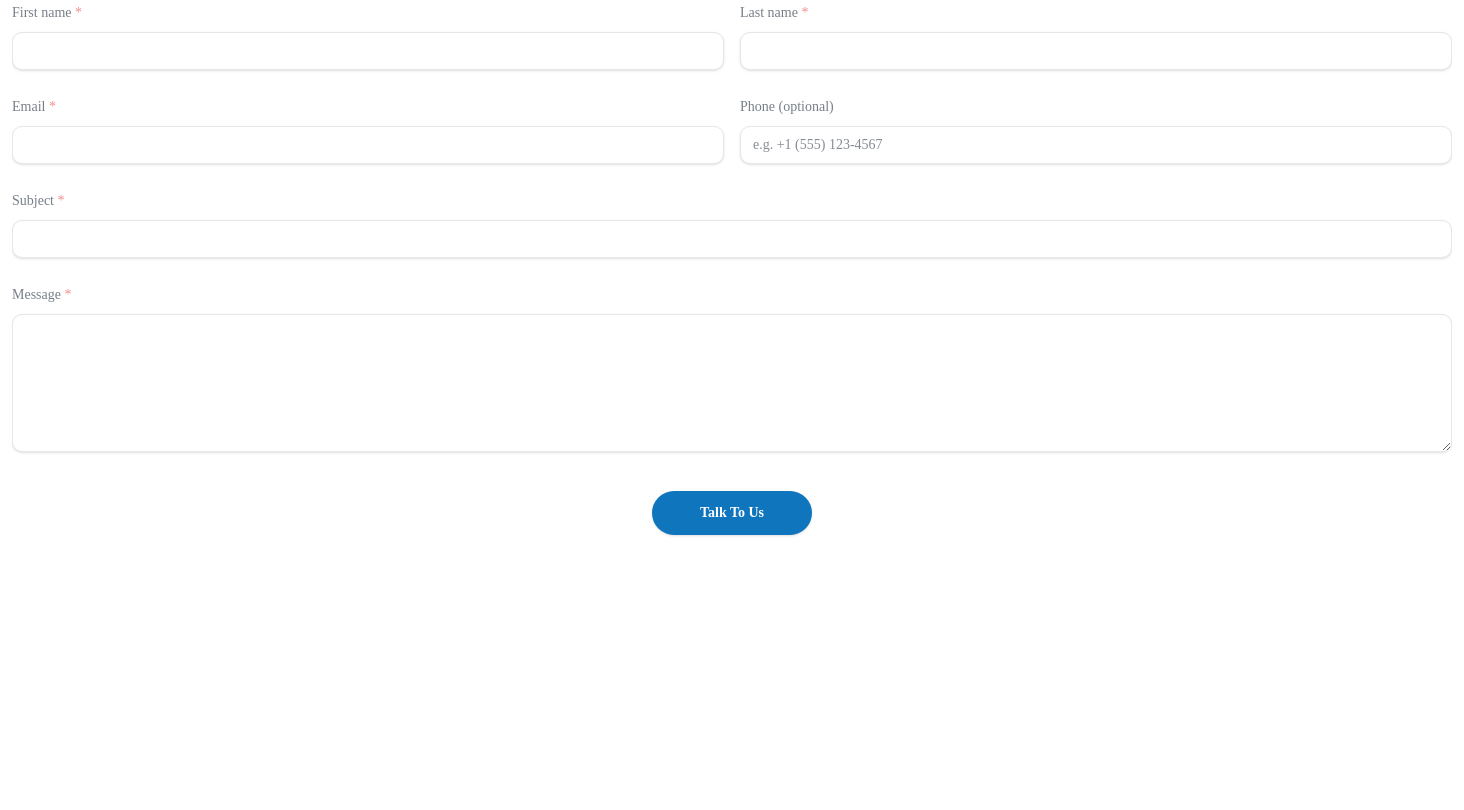
Test: ContactForm › validates email format on client
In the field labelled "First name *": (368, 51) [12,32,724,70], type "John"
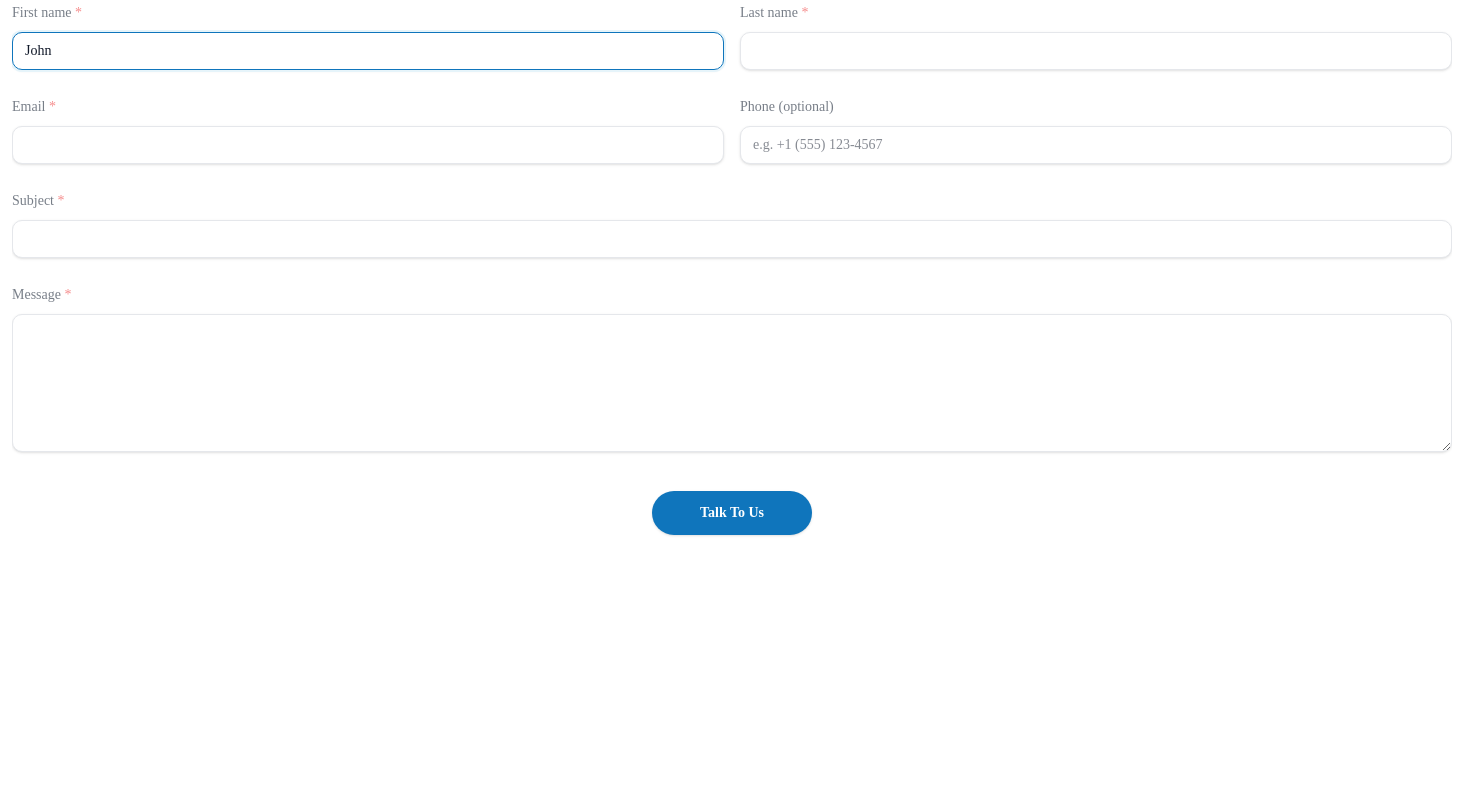
In the field labelled "Last name *": (1096, 51) [740,32,1452,70], type "Doe"
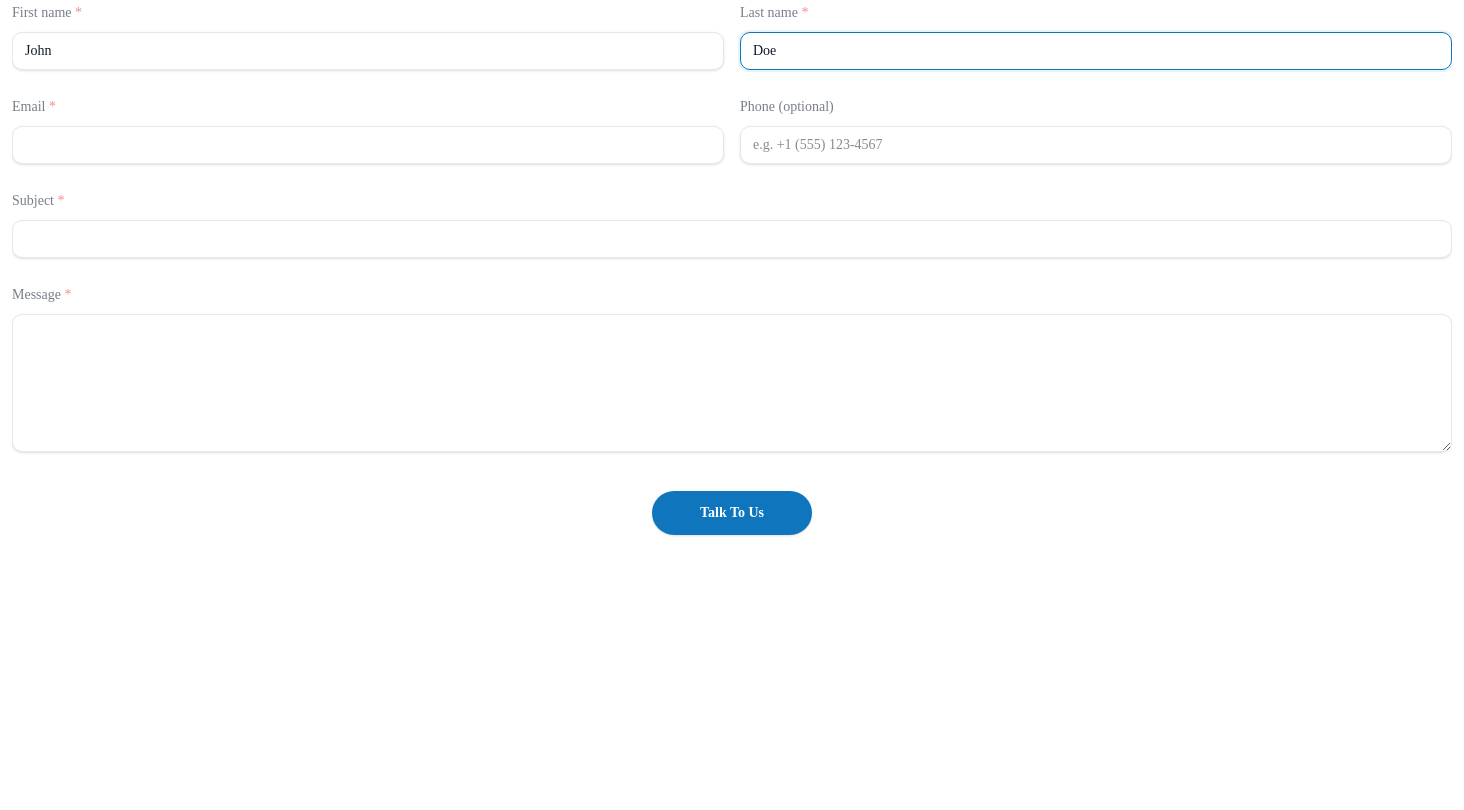
In the field labelled "Email *": (368, 145) [12,126,724,164], type "invalid-email"
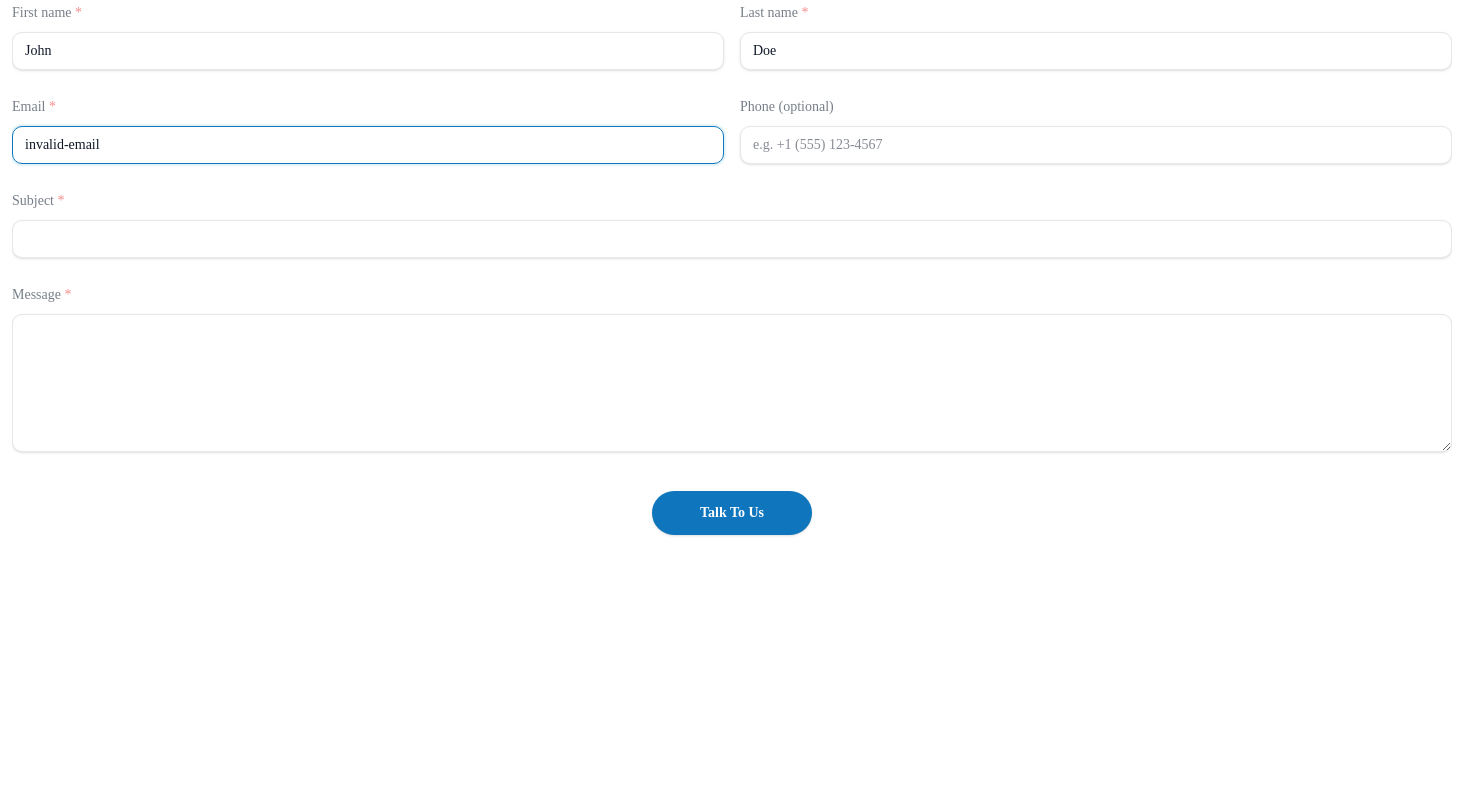
In the field labelled "Subject *": (732, 239) [12,220,1452,258], type "Test"
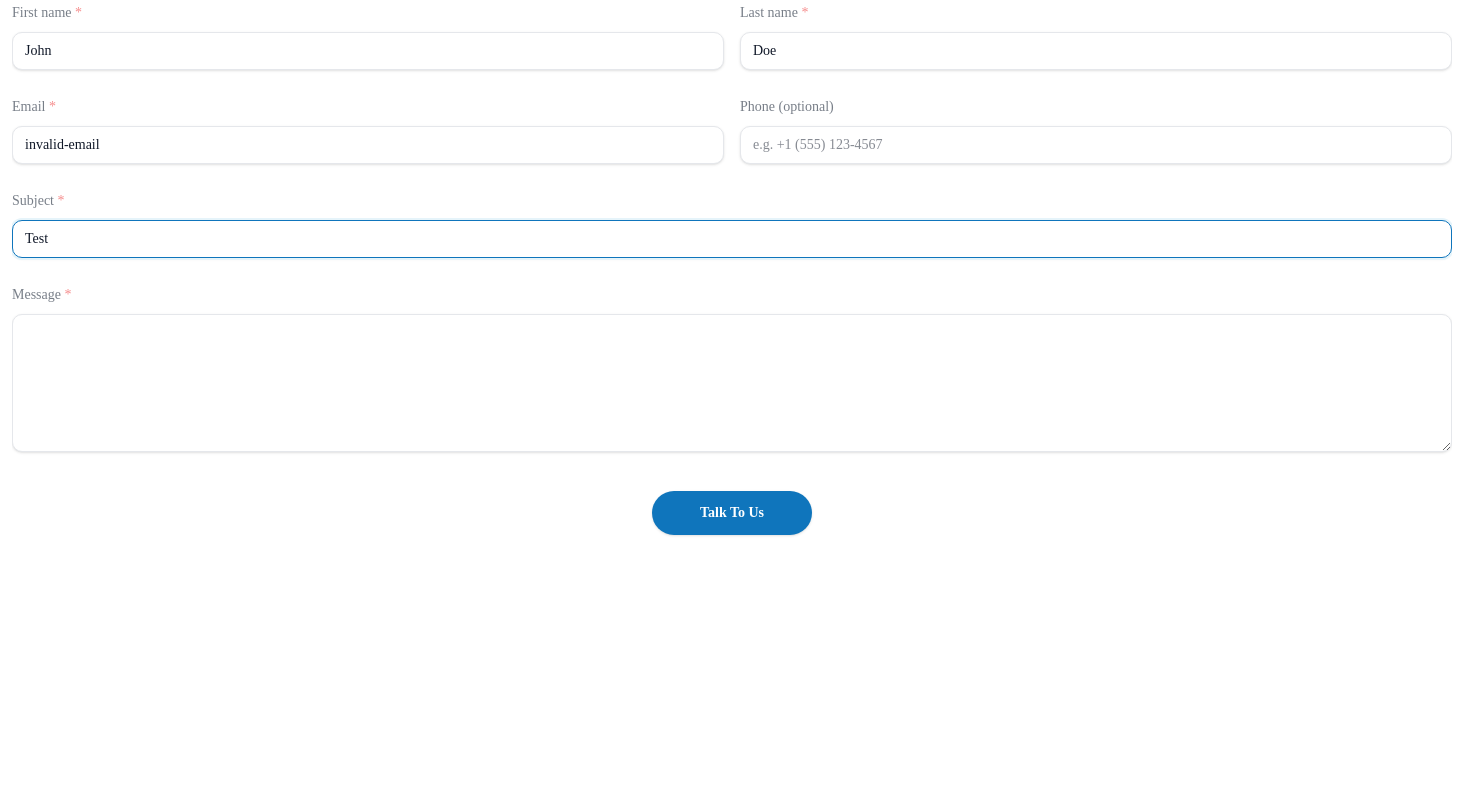
In the text box labelled "Message *": (732, 383) [12,314,1452,452], type "Test message"
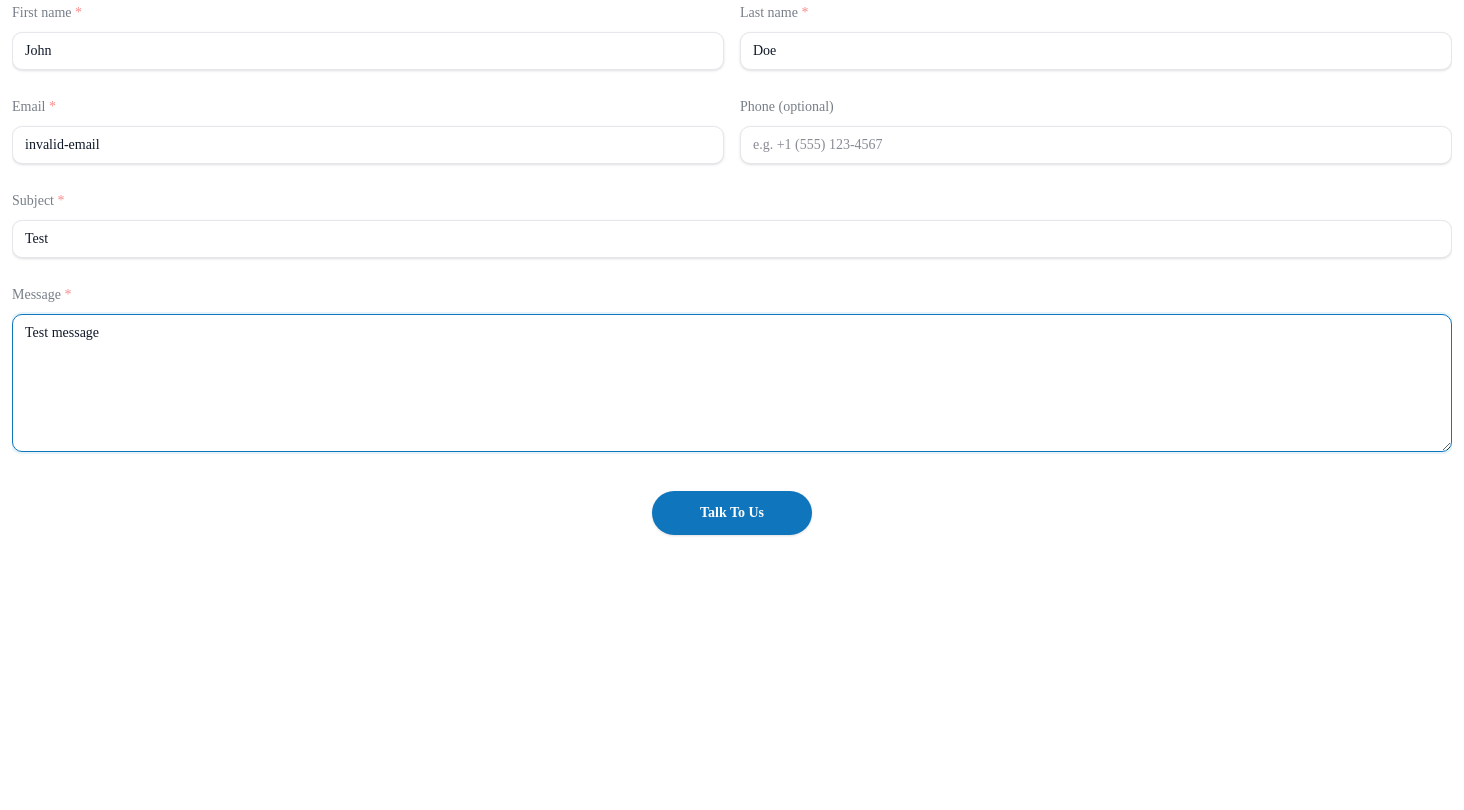
Click the button "Talk To Us": (732, 513) [652,491,812,535]
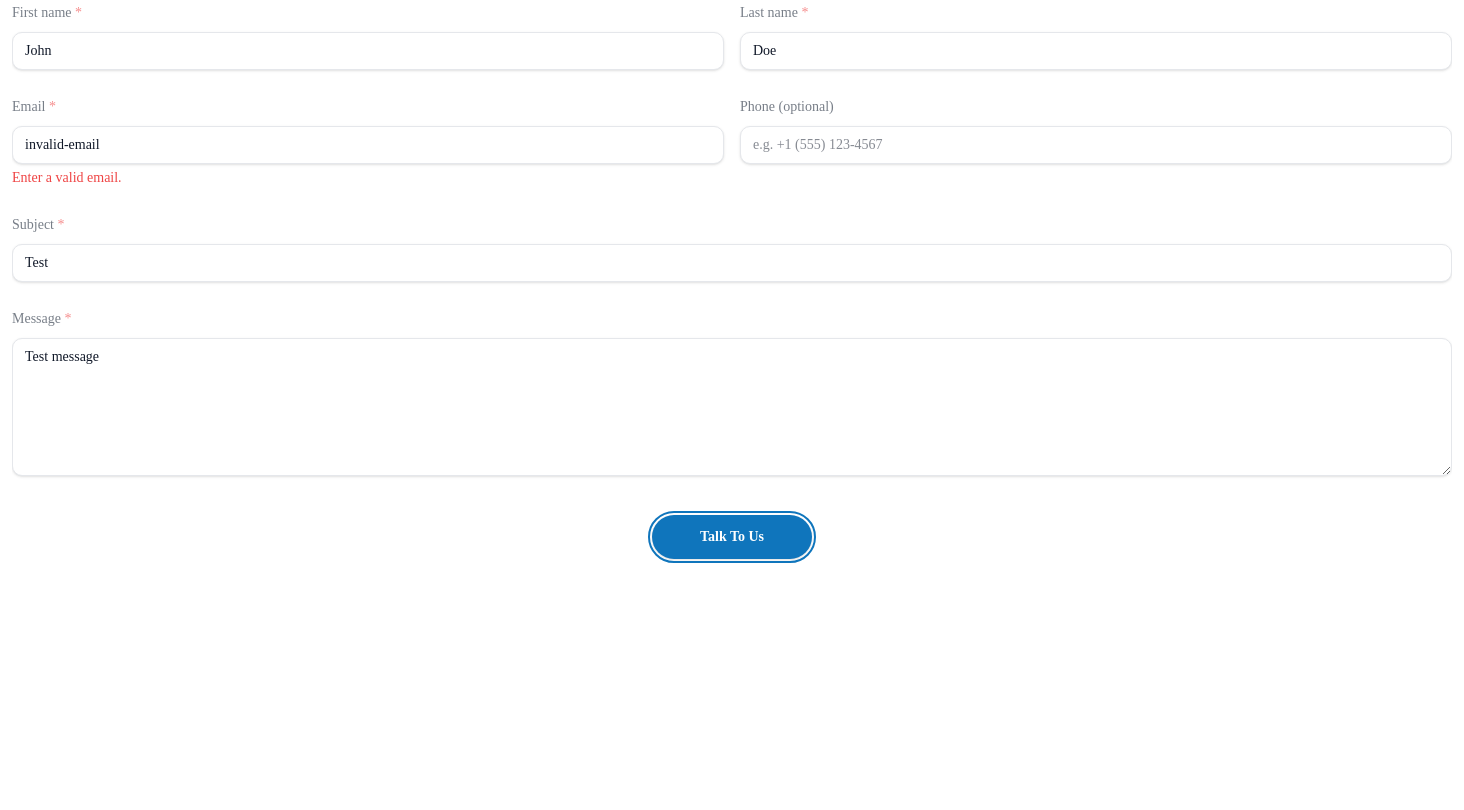
Now the text "Enter a valid email." is shown, box [12,170,122,185]
